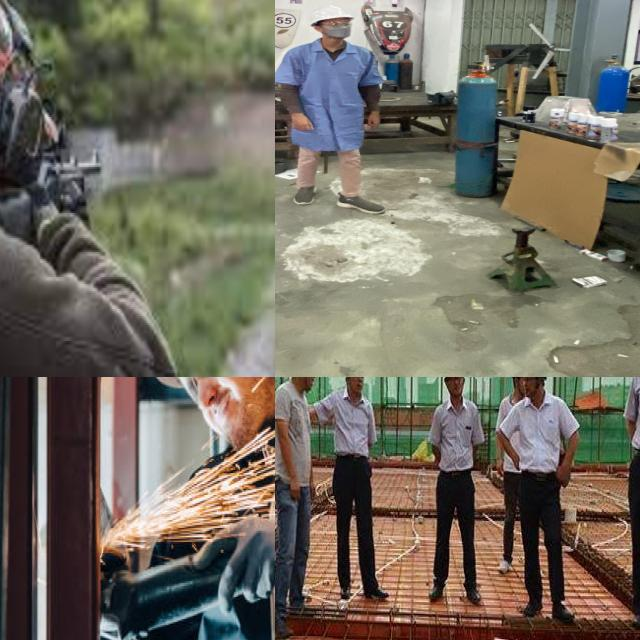Ear-protection: (0, 0, 71, 249)
face_mask: (321, 18, 355, 39)
face_nomask: (197, 377, 275, 449), (519, 377, 540, 397), (446, 377, 466, 395), (349, 377, 367, 392), (304, 377, 322, 391)
glasses: (188, 516, 275, 612), (314, 19, 354, 29)
hand_noglove: (286, 110, 320, 134), (364, 111, 387, 129)
head_helmet: (307, 5, 353, 22)
person: (275, 3, 400, 216), (513, 377, 585, 628), (416, 377, 488, 609), (320, 377, 389, 606), (275, 377, 329, 639), (619, 377, 640, 640)
shoes: (334, 190, 387, 217), (289, 181, 324, 206), (546, 599, 578, 625), (358, 580, 393, 602), (517, 594, 546, 620), (422, 581, 448, 607), (459, 584, 485, 606), (275, 614, 296, 640), (336, 580, 356, 600), (627, 605, 640, 631)
